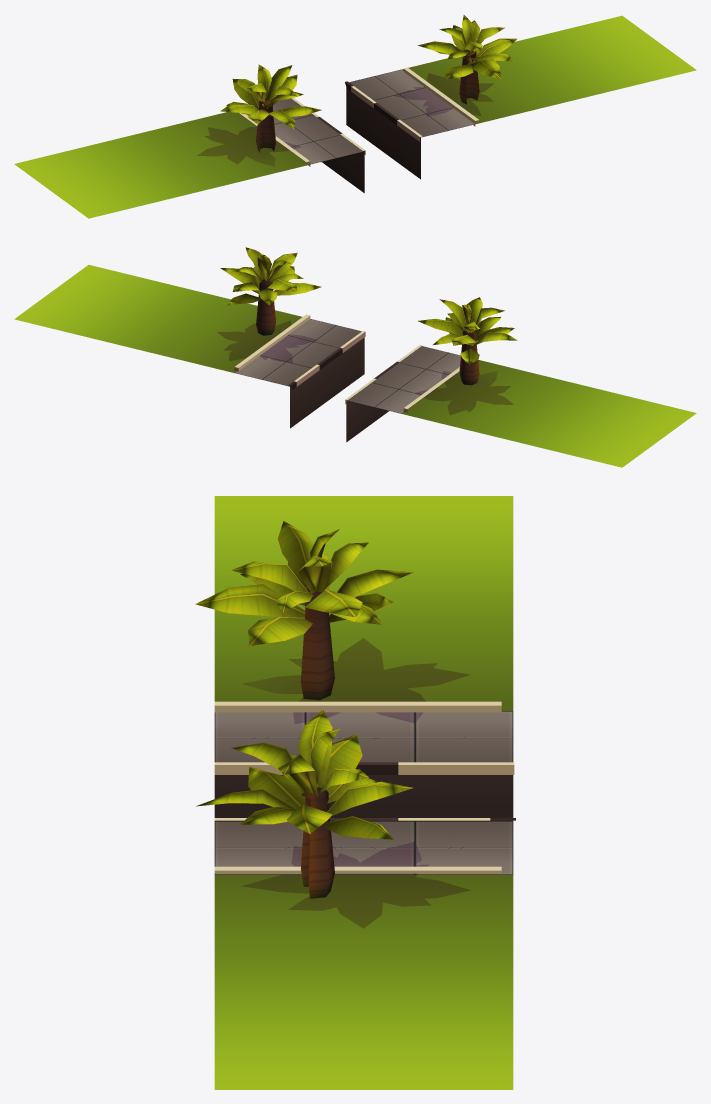
The picture shows the model from 3 angles, top to bottom: view 1: azimuth 30°, elevation 25°; view 2: azimuth 150°, elevation 25°; view 3: azimuth 270°, elevation 25°; orthographic projection. The views are drawn at different scales.
Visible parts, largest first — view 1: 1.104_Dubai_gates_base.002; view 2: 1.104_Dubai_gates_base.002; view 3: 1.104_Dubai_gates_base.002.
Part boxes in pixels (box(x1,y1,x2,y2)): 1.104_Dubai_gates_base.002: box(14, 15, 696, 218); 1.104_Dubai_gates_base.002: box(14, 247, 696, 467); 1.104_Dubai_gates_base.002: box(195, 496, 515, 1089).
Size of the model in its own units: 43684 by 8528 by 9984.
